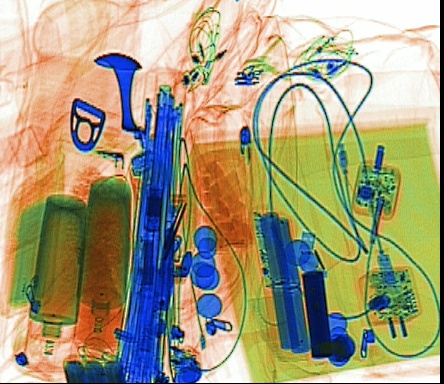powerbank: (247, 209, 330, 357)
